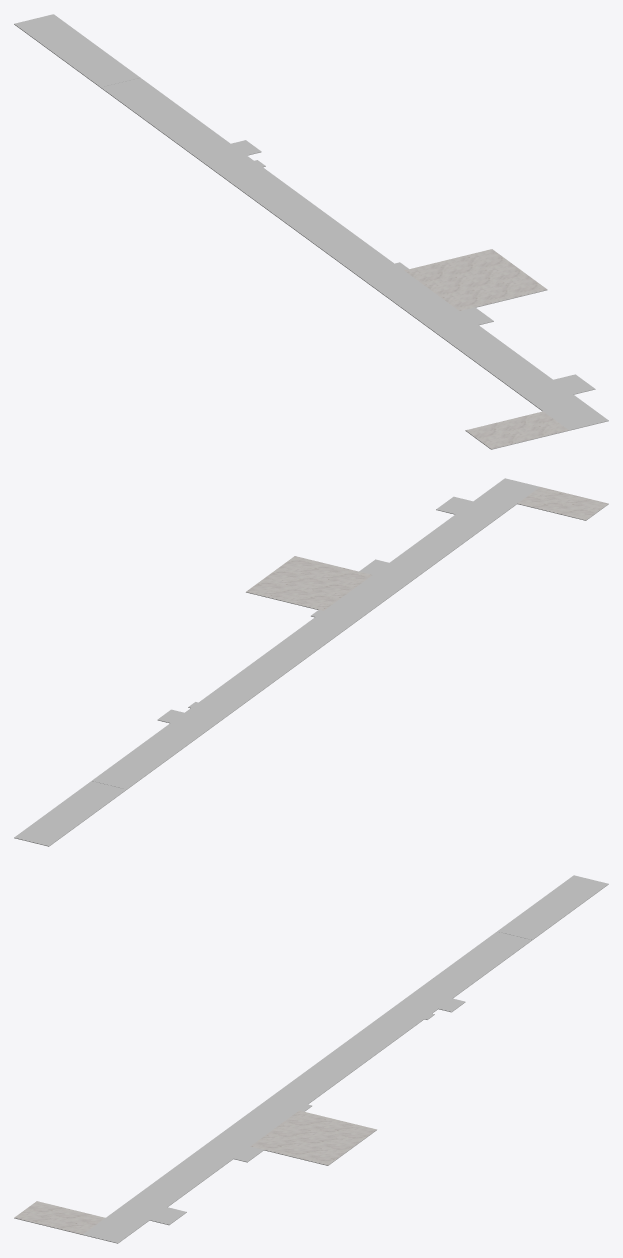
3 renders of one model, top to bottom at view 1: azimuth 30°, elevation 25°; view 2: azimuth 150°, elevation 25°; view 3: azimuth 330°, elevation 25°, orthographic. The views are drawn at different scales.
Parts seen in each view (by area): view 1: 복도 바닥; view 2: 복도 바닥; view 3: 복도 바닥.
Boxes of the visible parts, x1,y1,x2,y2 form: 복도 바닥: (14, 14, 608, 449); 복도 바닥: (14, 478, 608, 846); 복도 바닥: (14, 875, 608, 1243).
Size of the model in its own units: 2951 by 8.23 by 13789.
